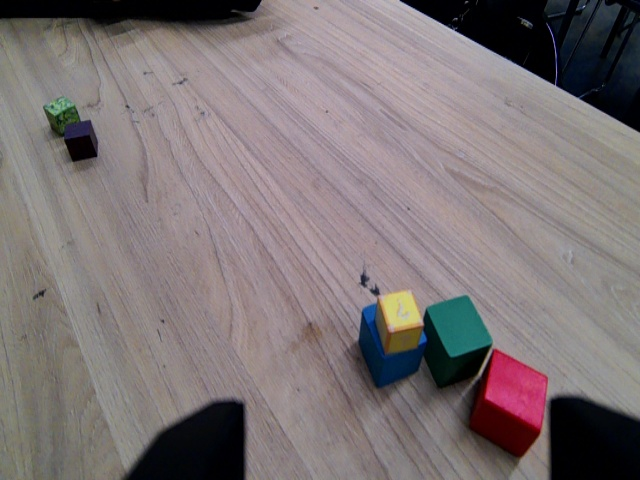lucky: (374, 285, 426, 355)
